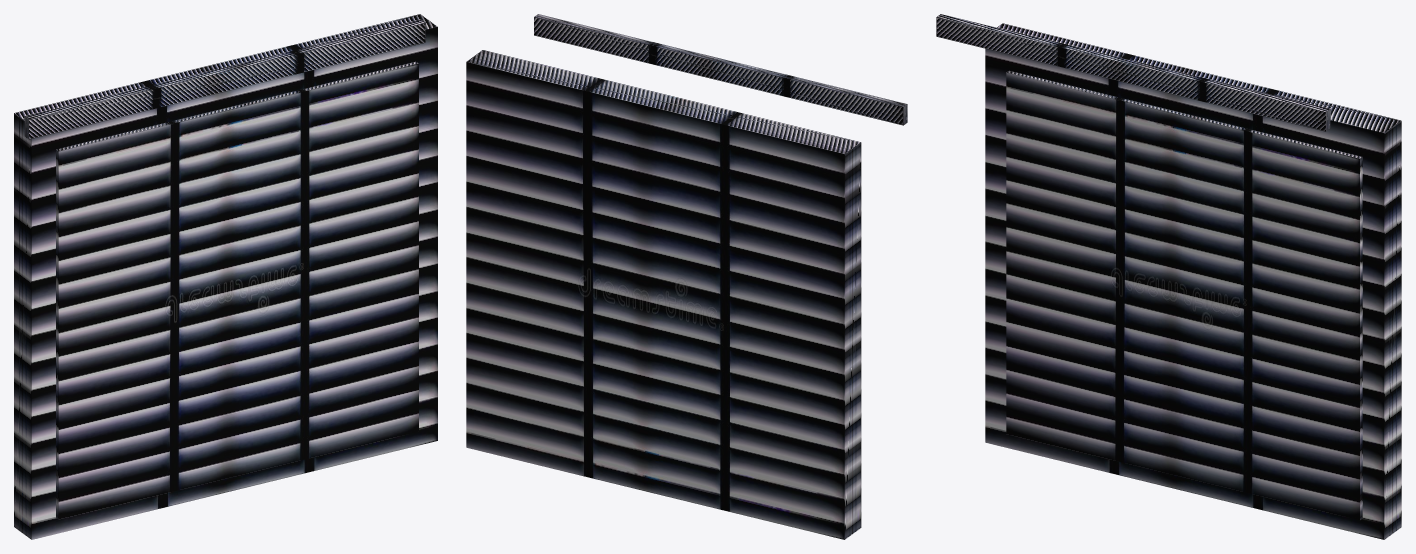
The model's file is salekaihdin.fbx.
The picture shows the model from 3 angles, left to right: view 1: azimuth 30°, elevation 25°; view 2: azimuth 150°, elevation 25°; view 3: azimuth 330°, elevation 25°; orthographic projection. The views are drawn at different scales.
Visible parts, largest first — view 1: Box001; view 2: Box001; view 3: Box001.
Boxes of the visible parts, <box> form: Box001: <box>14,14,437,539</box>; Box001: <box>466,14,907,539</box>; Box001: <box>936,14,1401,539</box>.
Bounding box in the file's own units: 187 × 184 × 31.
1 material, 1 textured.
